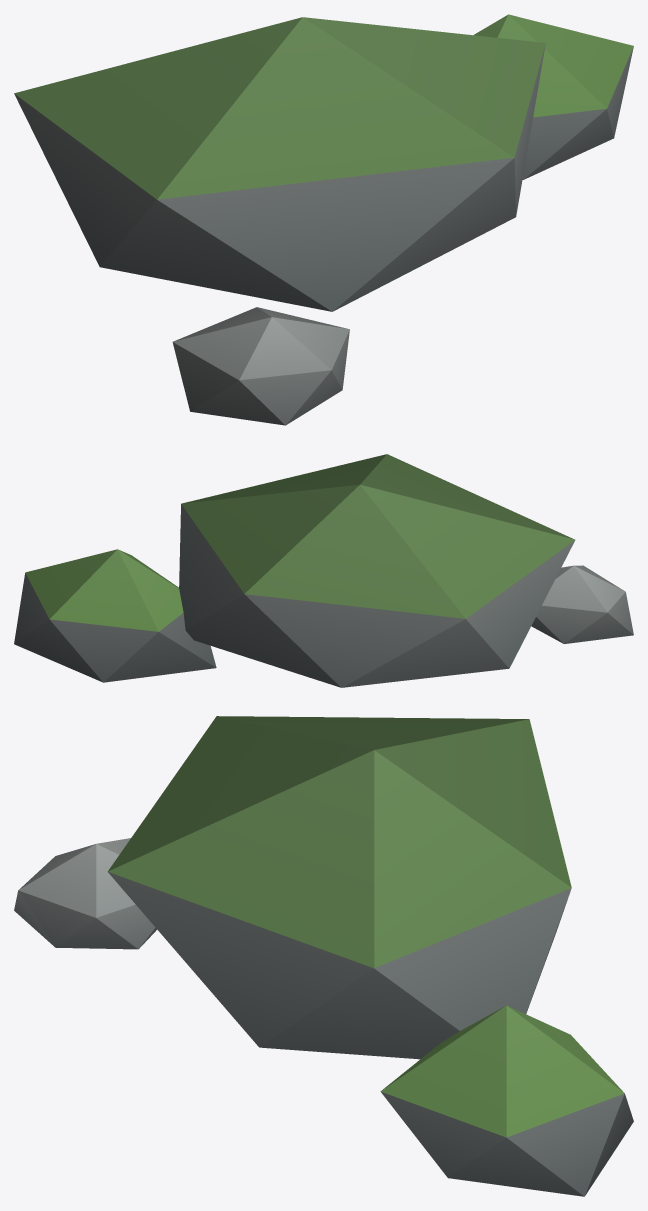
The model's file is dress_rock-2h51rUE8.glb.
3 renders of one model, top to bottom at view 1: azimuth 30°, elevation 25°; view 2: azimuth 150°, elevation 25°; view 3: azimuth 270°, elevation 25°, orthographic. The views are drawn at different scales.
Visible parts, largest first — view 1: rock; view 2: rock; view 3: rock.
Boxes of the visible parts, bbox=[...] form: rock: bbox=[14, 14, 633, 425]; rock: bbox=[14, 454, 633, 687]; rock: bbox=[14, 716, 633, 1196].
Size of the model in its own units: 1.19 by 0.4619 by 0.9367.
